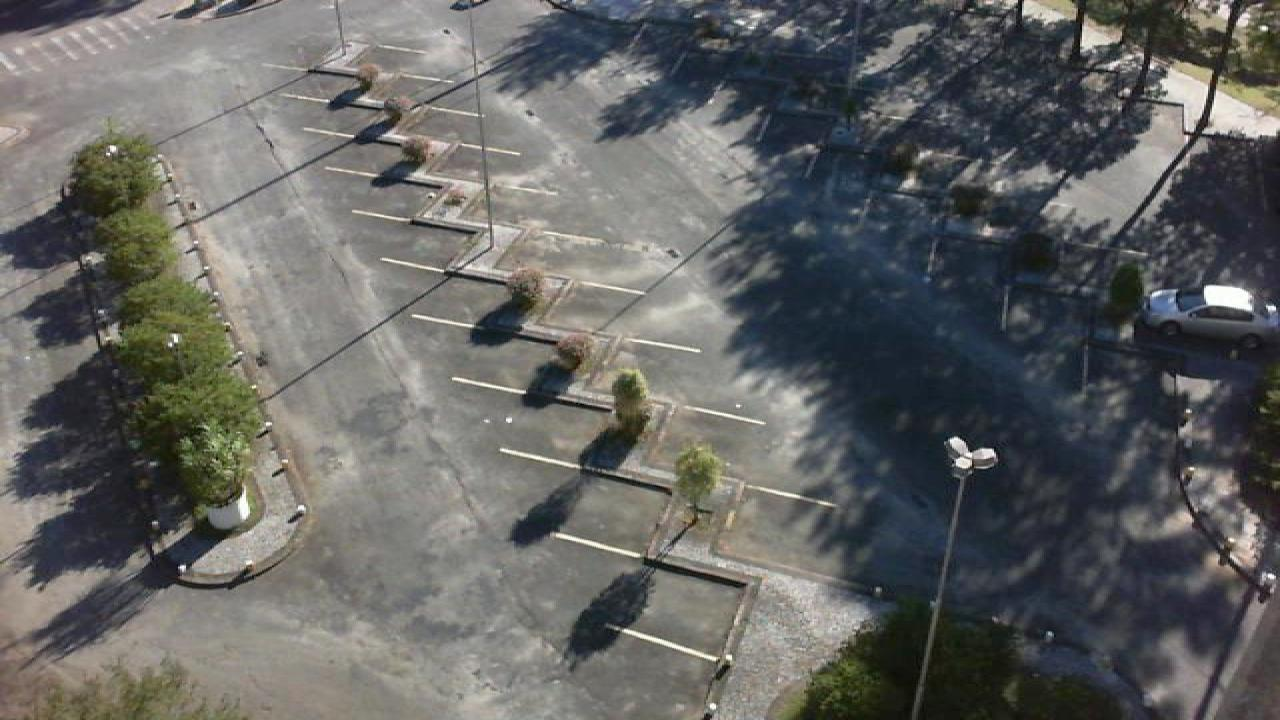Car: (1140, 281, 1280, 348)
